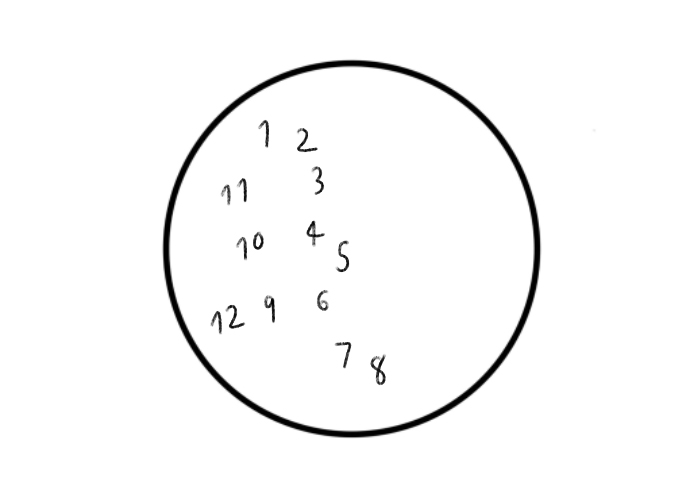eight: (369, 352, 389, 388)
eleven: (221, 176, 249, 209)
five: (335, 236, 351, 274)
four: (304, 216, 326, 249)
nine: (264, 293, 279, 323)
one: (255, 117, 271, 152)
seven: (335, 340, 352, 371)
six: (314, 287, 333, 313)
ten: (234, 231, 266, 261)
three: (308, 162, 326, 199)
twelve: (207, 304, 248, 335)
two: (295, 125, 317, 155)
